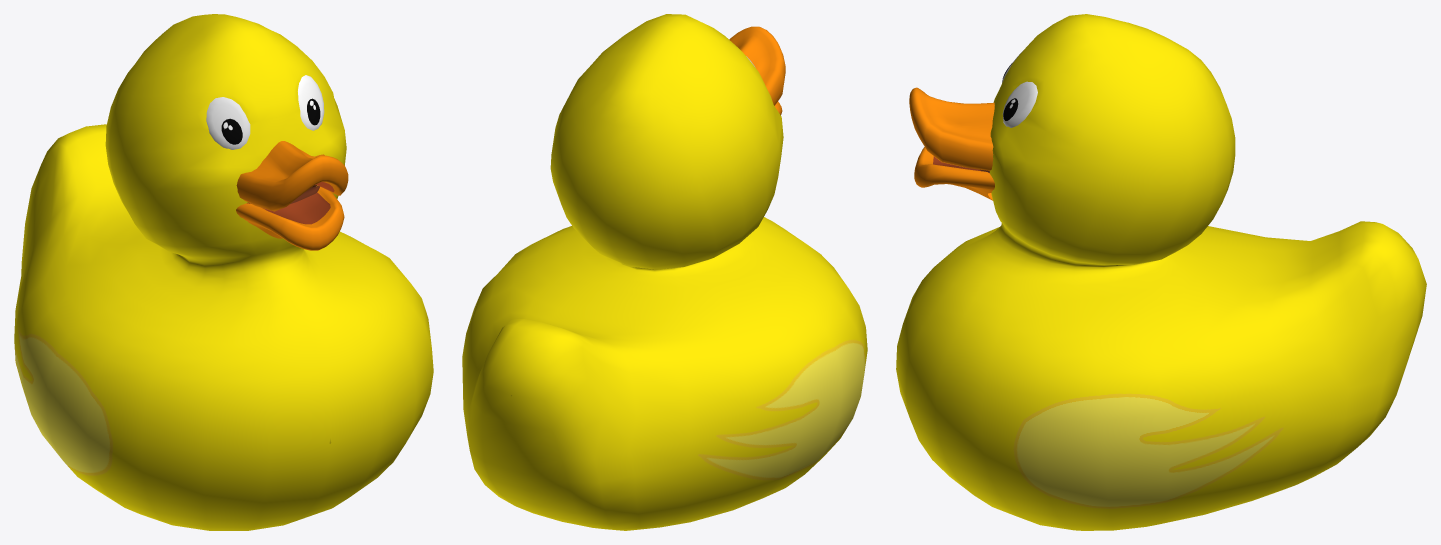
The model's file is normalDuck.fbx.
3 views of the same model, side by side, from view 1: azimuth 30°, elevation 25°; view 2: azimuth 150°, elevation 25°; view 3: azimuth 270°, elevation 25° (orthographic). The views are drawn at different scales.
Parts seen in each view (by area): view 1: polySurface6, beak, rightEye, leftEye; view 2: polySurface6, beak; view 3: polySurface6, beak, leftEye.
Part boxes in pixels (<box>): polySurface6: <box>14,14,433,530</box>; beak: <box>236,141,348,250</box>; rightEye: <box>206,97,250,149</box>; leftEye: <box>298,75,324,130</box>; polySurface6: <box>462,14,867,530</box>; beak: <box>729,26,785,115</box>; polySurface6: <box>896,14,1426,530</box>; beak: <box>909,87,994,200</box>; leftEye: <box>1002,81,1037,127</box>.
Size of the model in its own units: 1.61 by 2.09 by 2.05.
Materials: 2 (1 with a texture image).
